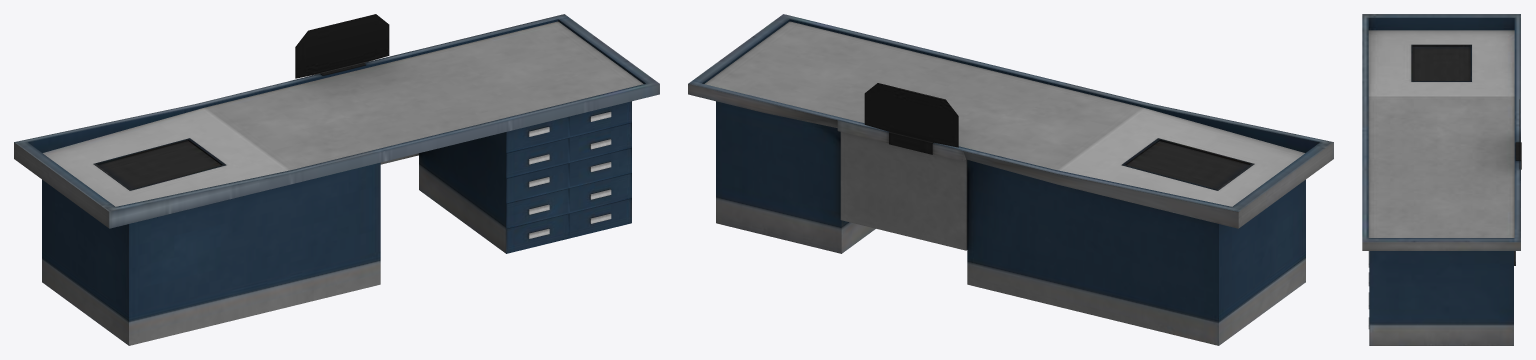
File: cash_counter_optimised.glb
3 renders of one model, left to right at view 1: azimuth 30°, elevation 25°; view 2: azimuth 150°, elevation 25°; view 3: azimuth 270°, elevation 25°, orthographic. The views are drawn at different scales.
Parts seen in each view (by area): view 1: Counter; view 2: Counter; view 3: Counter.
Boxes of the visible parts, x1,y1,x2,y2 form: Counter: (14, 14, 659, 345); Counter: (688, 14, 1333, 345); Counter: (1362, 14, 1521, 345).
Size of the model in its own units: 2.83 by 0.9005 by 0.8539.
1 material, 1 textured.
